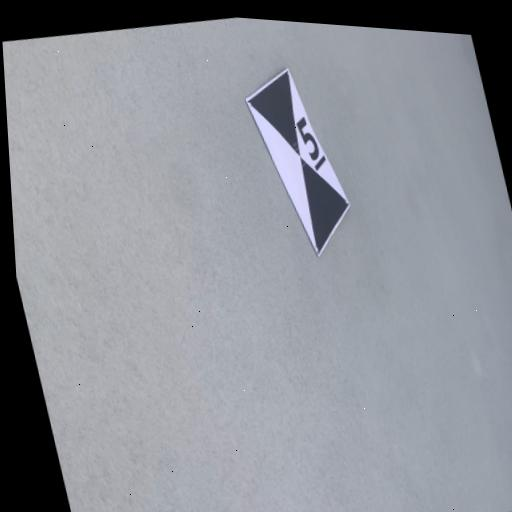target5: (244, 67, 350, 258)
